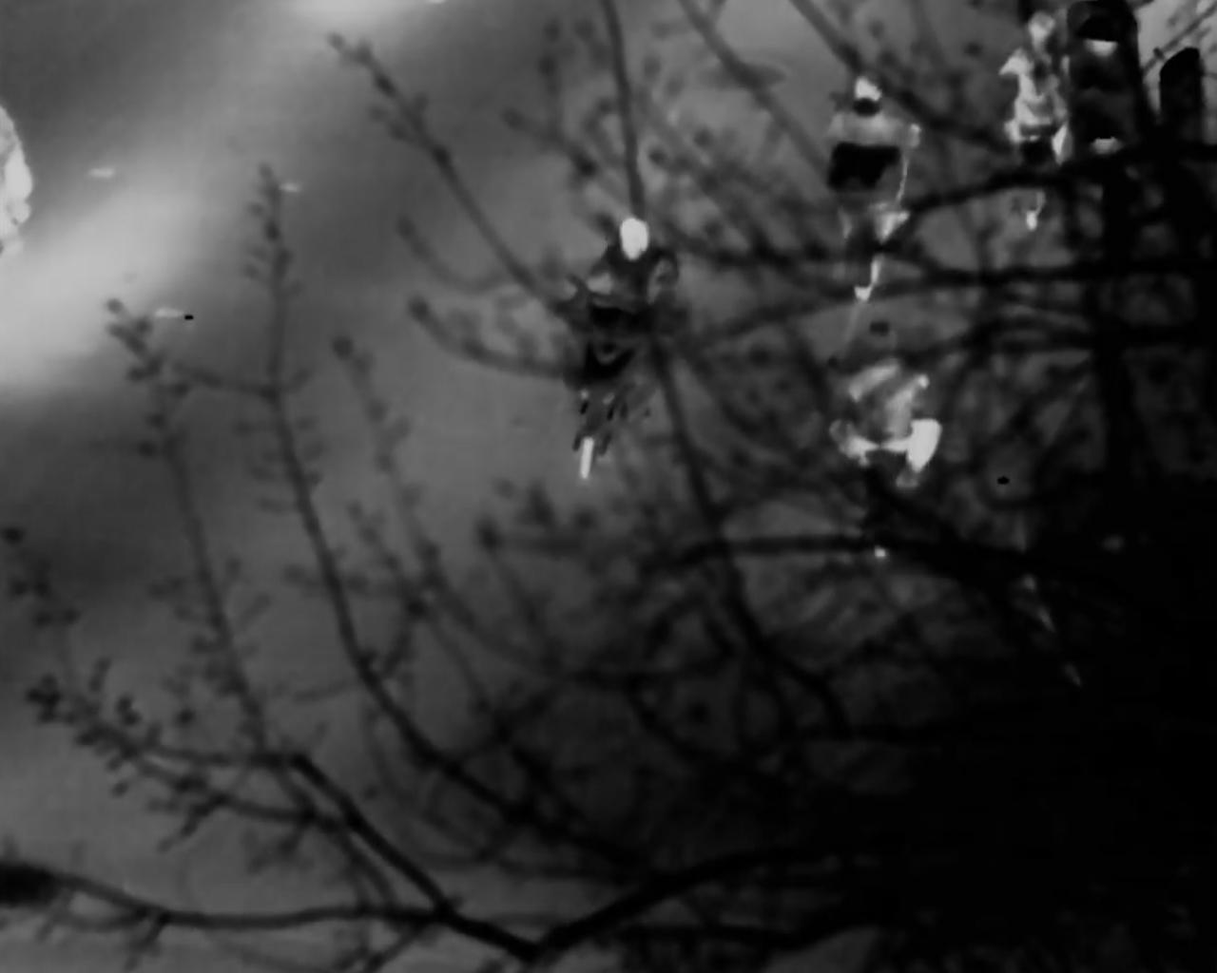person: (821, 78, 918, 296), (840, 330, 953, 495), (578, 208, 668, 391), (995, 12, 1072, 218)
